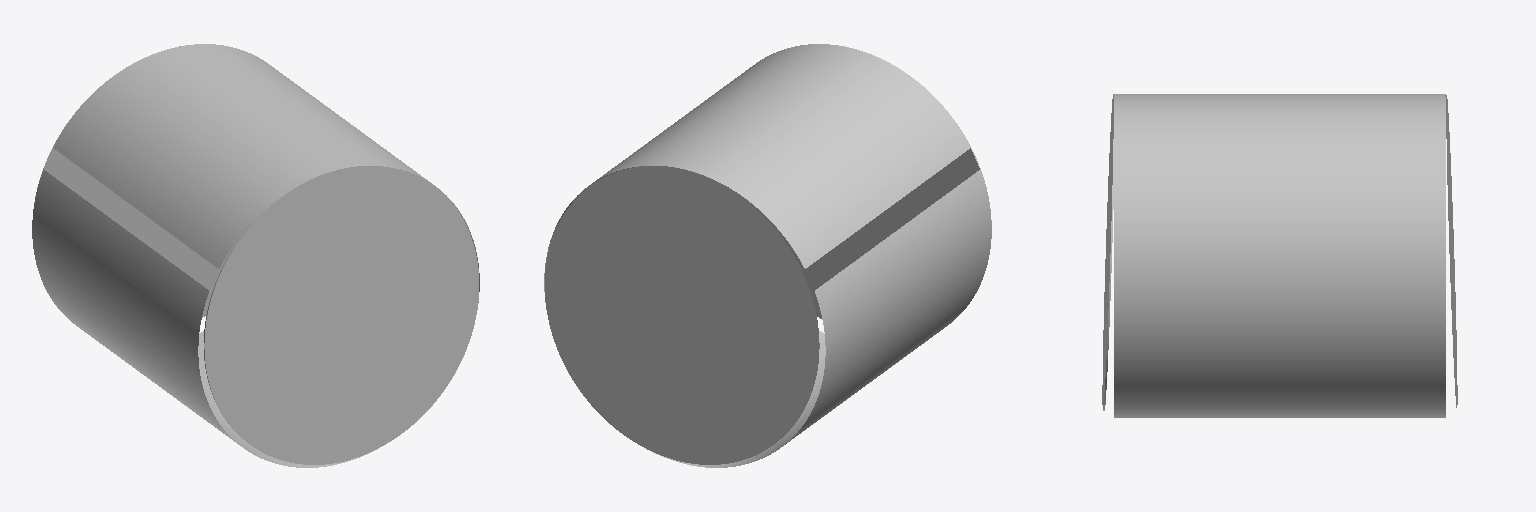
File: plane bend91.obj
3 renders of one model, left to right at view 1: azimuth 30°, elevation 25°; view 2: azimuth 150°, elevation 25°; view 3: azimuth 270°, elevation 25°, orthographic.
Visible parts, largest first — view 1: Plane, Circle, Circle.001; view 2: Plane, Circle.001, Circle; view 3: Plane, Circle, Circle.001.
Boxes of the visible parts, box(x1,y1,x2,y2) form: Plane: box(32, 44, 479, 467); Circle: box(204, 166, 478, 464); Circle.001: box(34, 46, 252, 317); Plane: box(544, 44, 991, 467); Circle.001: box(545, 166, 819, 464); Circle: box(726, 46, 989, 318); Plane: box(1114, 94, 1445, 417); Circle: box(1102, 94, 1113, 410); Circle.001: box(1446, 95, 1457, 407).
Bounding box in the file's own units: 1.96 × 1.96 × 2.14.